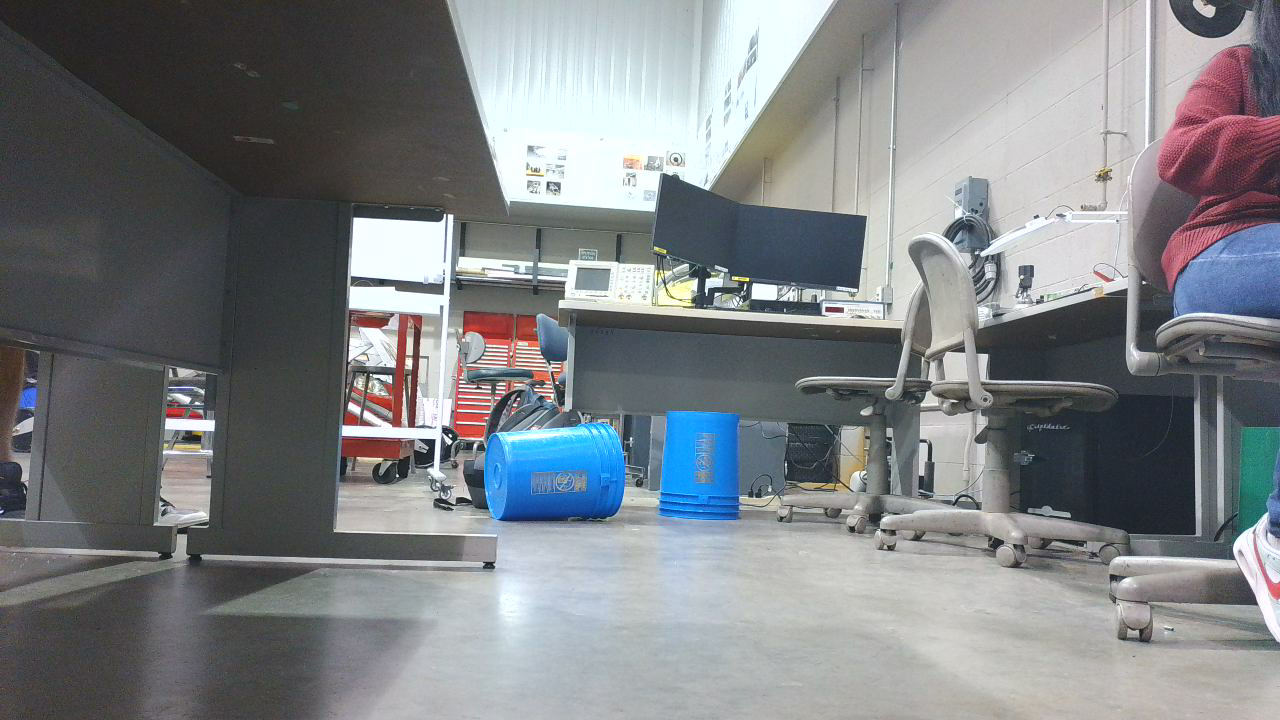blue_bucket: (488, 425, 630, 526), (661, 413, 748, 525)
